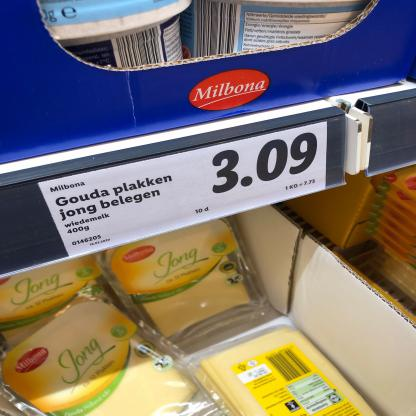prtg: (39, 123, 328, 258)
